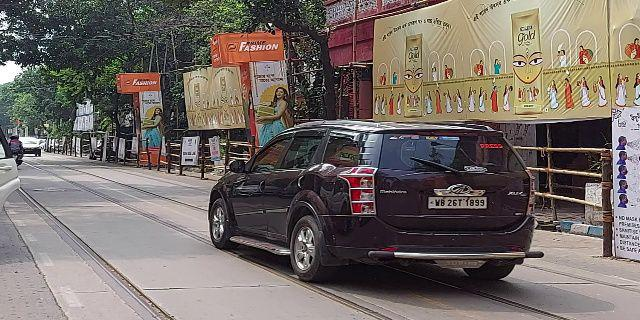Car: (205, 114, 545, 288)
